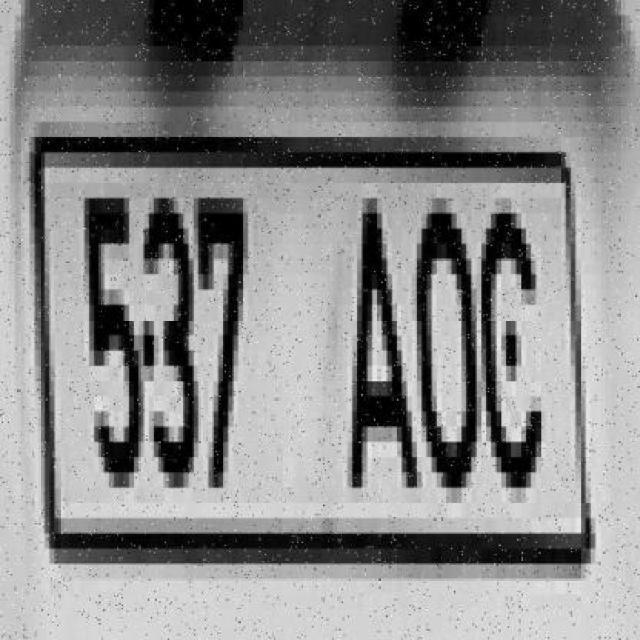licenseplate: (34, 130, 581, 555)
